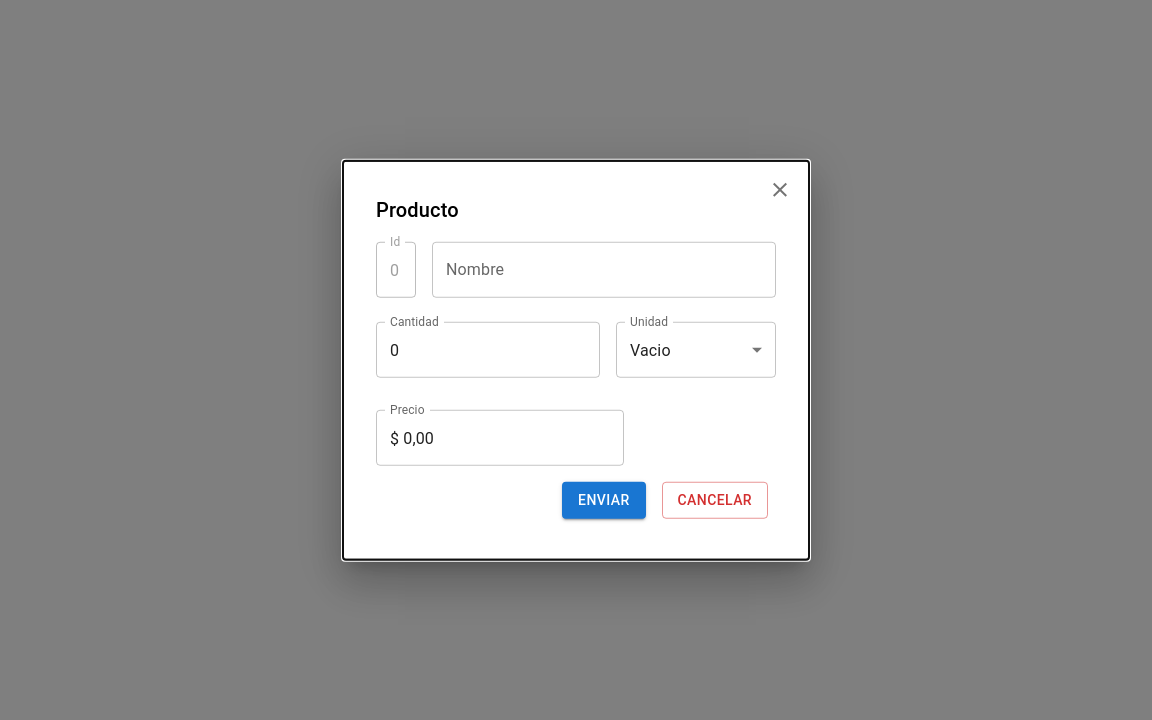
Test: ProductoFormModal › debería mostrar error si se envía sin nombre
Click the button "Enviar" at (604, 500), box [562, 482, 646, 518]
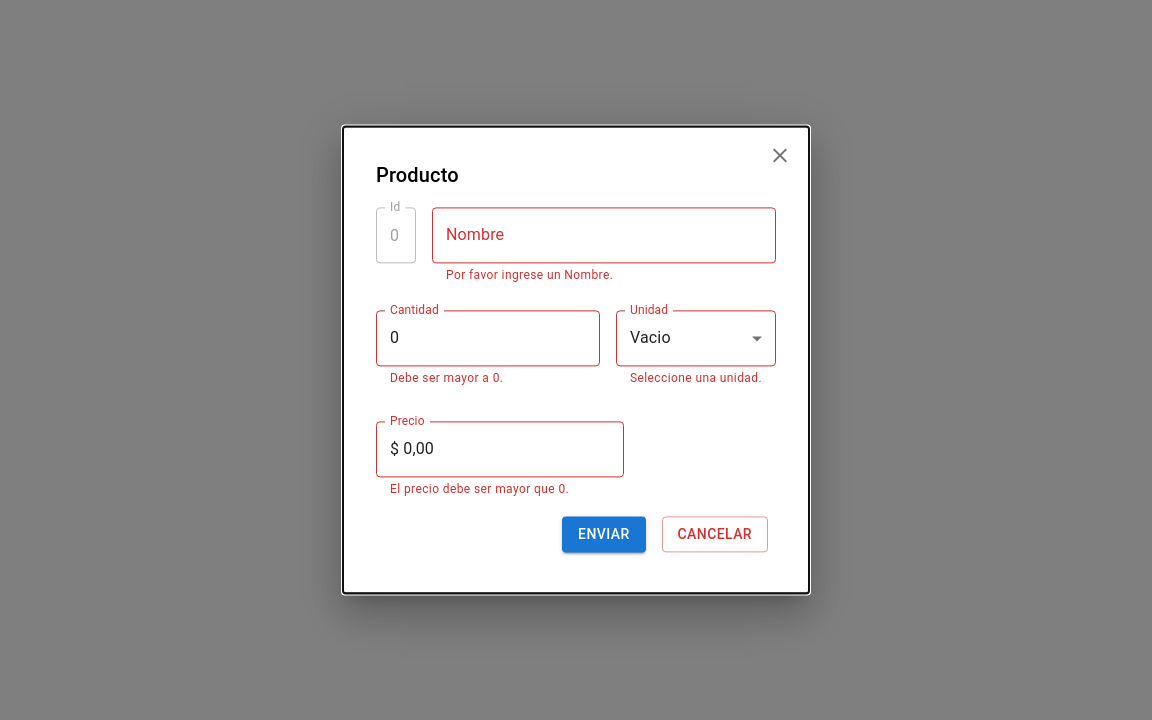
Expected: the text "Por favor ingrese un Nombre." is shown, [446, 268, 613, 282]
